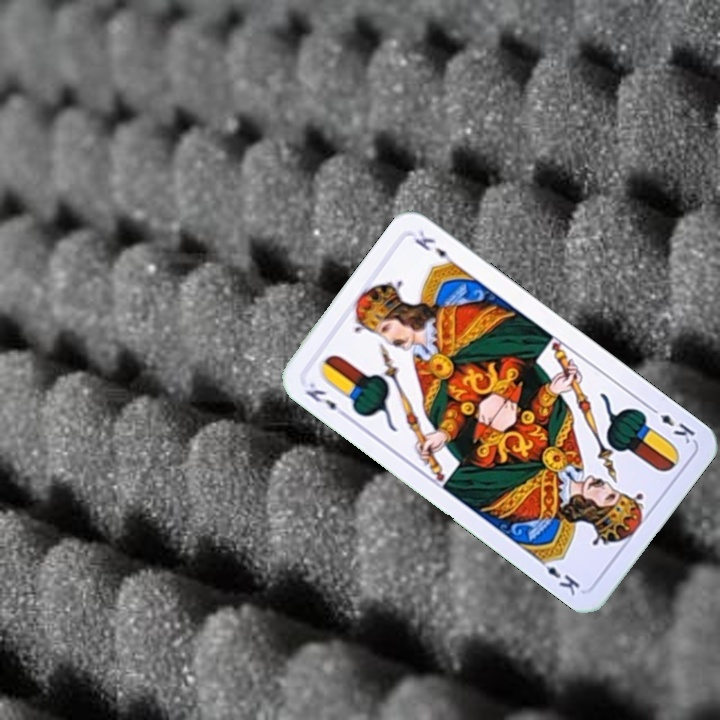EK: (645, 402, 698, 447), (301, 378, 351, 421)
